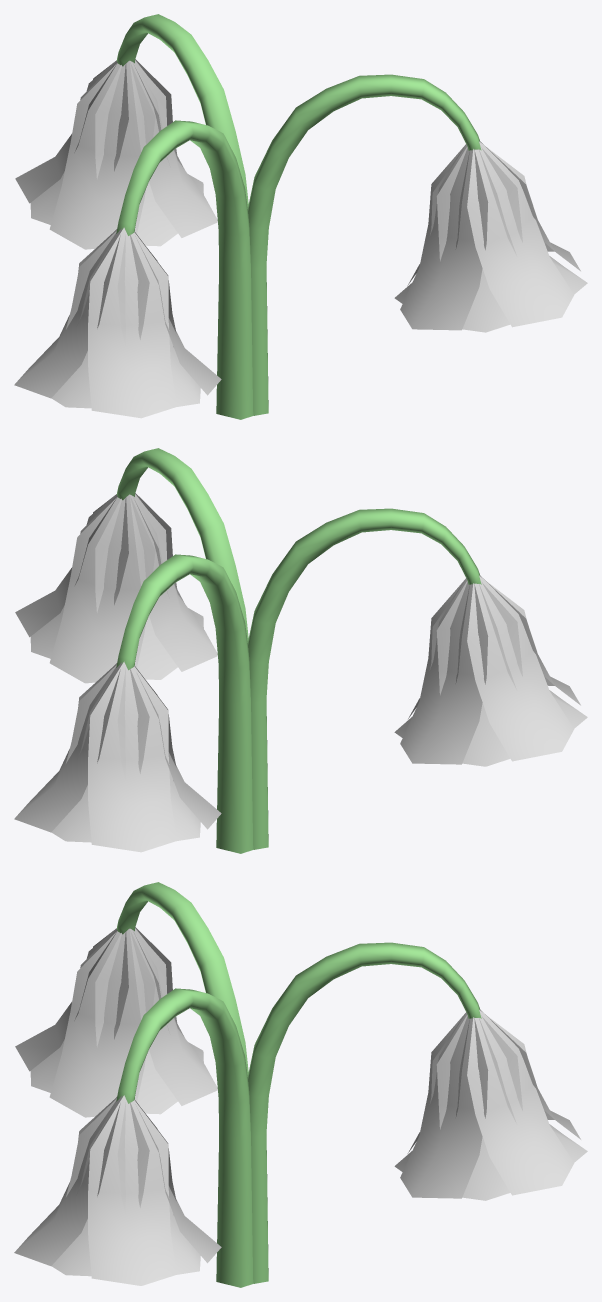
File: AridisFlower.fbx
The picture shows the model from 3 angles, top to bottom: view 1: azimuth 30°, elevation 25°; view 2: azimuth 150°, elevation 25°; view 3: azimuth 270°, elevation 25°; orthographic projection.
Visible parts, largest first — view 1: AridisFlower_Item_LOD0, AridisFlower_Base_LOD0; view 2: AridisFlower_Item_LOD0, AridisFlower_Base_LOD0; view 3: AridisFlower_Item_LOD0, AridisFlower_Base_LOD0.
Part boxes in pixels (x1=…): AridisFlower_Item_LOD0: x1=14, y1=59, x2=587, y2=418; AridisFlower_Base_LOD0: x1=116, y1=14, x2=481, y2=419; AridisFlower_Item_LOD0: x1=14, y1=493, x2=587, y2=852; AridisFlower_Base_LOD0: x1=116, y1=448, x2=481, y2=853; AridisFlower_Item_LOD0: x1=14, y1=927, x2=587, y2=1285; AridisFlower_Base_LOD0: x1=116, y1=882, x2=481, y2=1287.
Size of what is drawn, in the model's own units: 0.7923 by 0.4518 by 0.7143.
